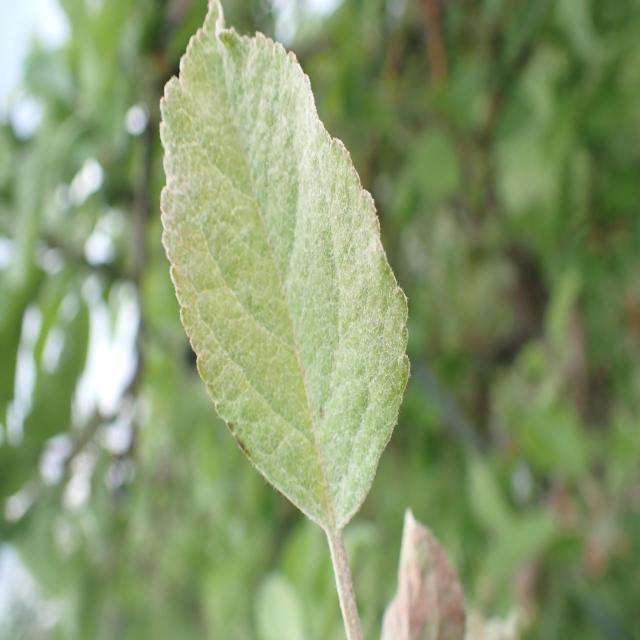Powdery_mildew: (152, 0, 416, 551)
